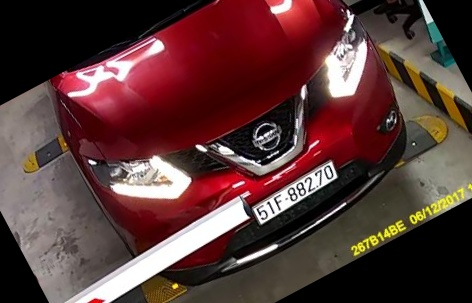plate: (251, 163, 347, 225)
